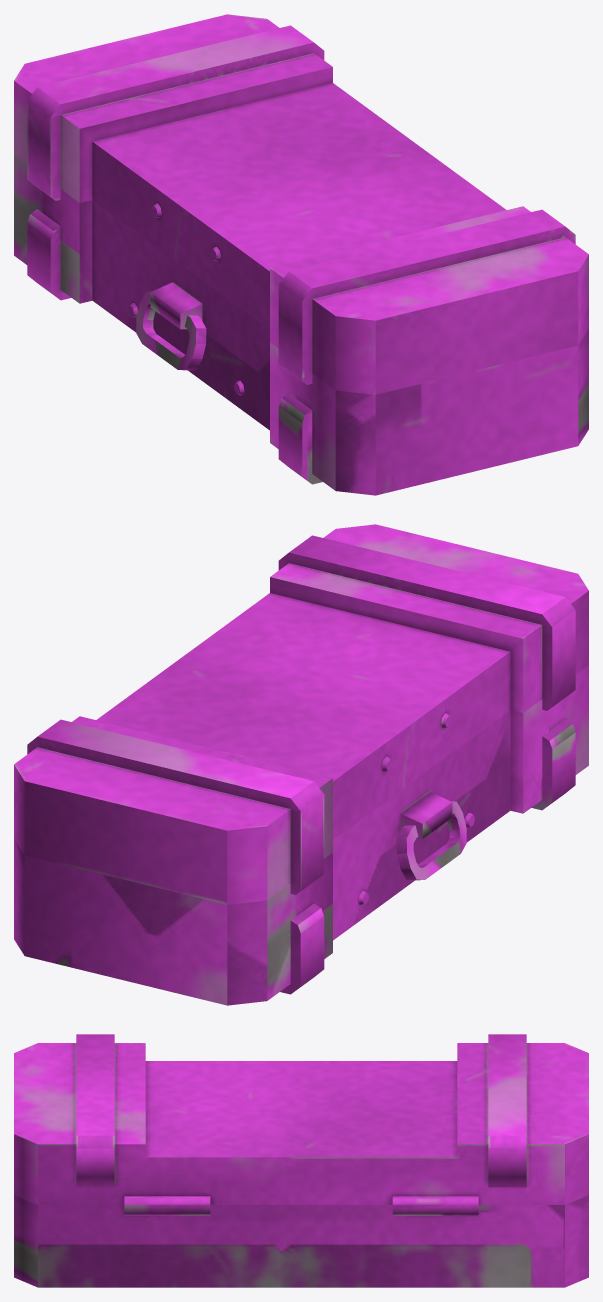
Rendered from crate-wide.glb.
3 renders of one model, top to bottom at view 1: azimuth 30°, elevation 25°; view 2: azimuth 150°, elevation 25°; view 3: azimuth 270°, elevation 25°, orthographic. The views are drawn at different scales.
Visible parts, largest first — view 1: lid, crate-wide; view 2: lid, crate-wide; view 3: lid, crate-wide.
Part boxes in pixels (x1,y1,x2,y2): lid: [14, 14, 588, 394]; crate-wide: [14, 155, 588, 495]; lid: [14, 524, 588, 904]; crate-wide: [14, 665, 588, 1005]; lid: [14, 1034, 588, 1204]; crate-wide: [14, 1195, 588, 1287].
Bounding box in the file's own units: 0.5495 × 0.37 × 1.2.
Materials: 1 (1 with a texture image).
